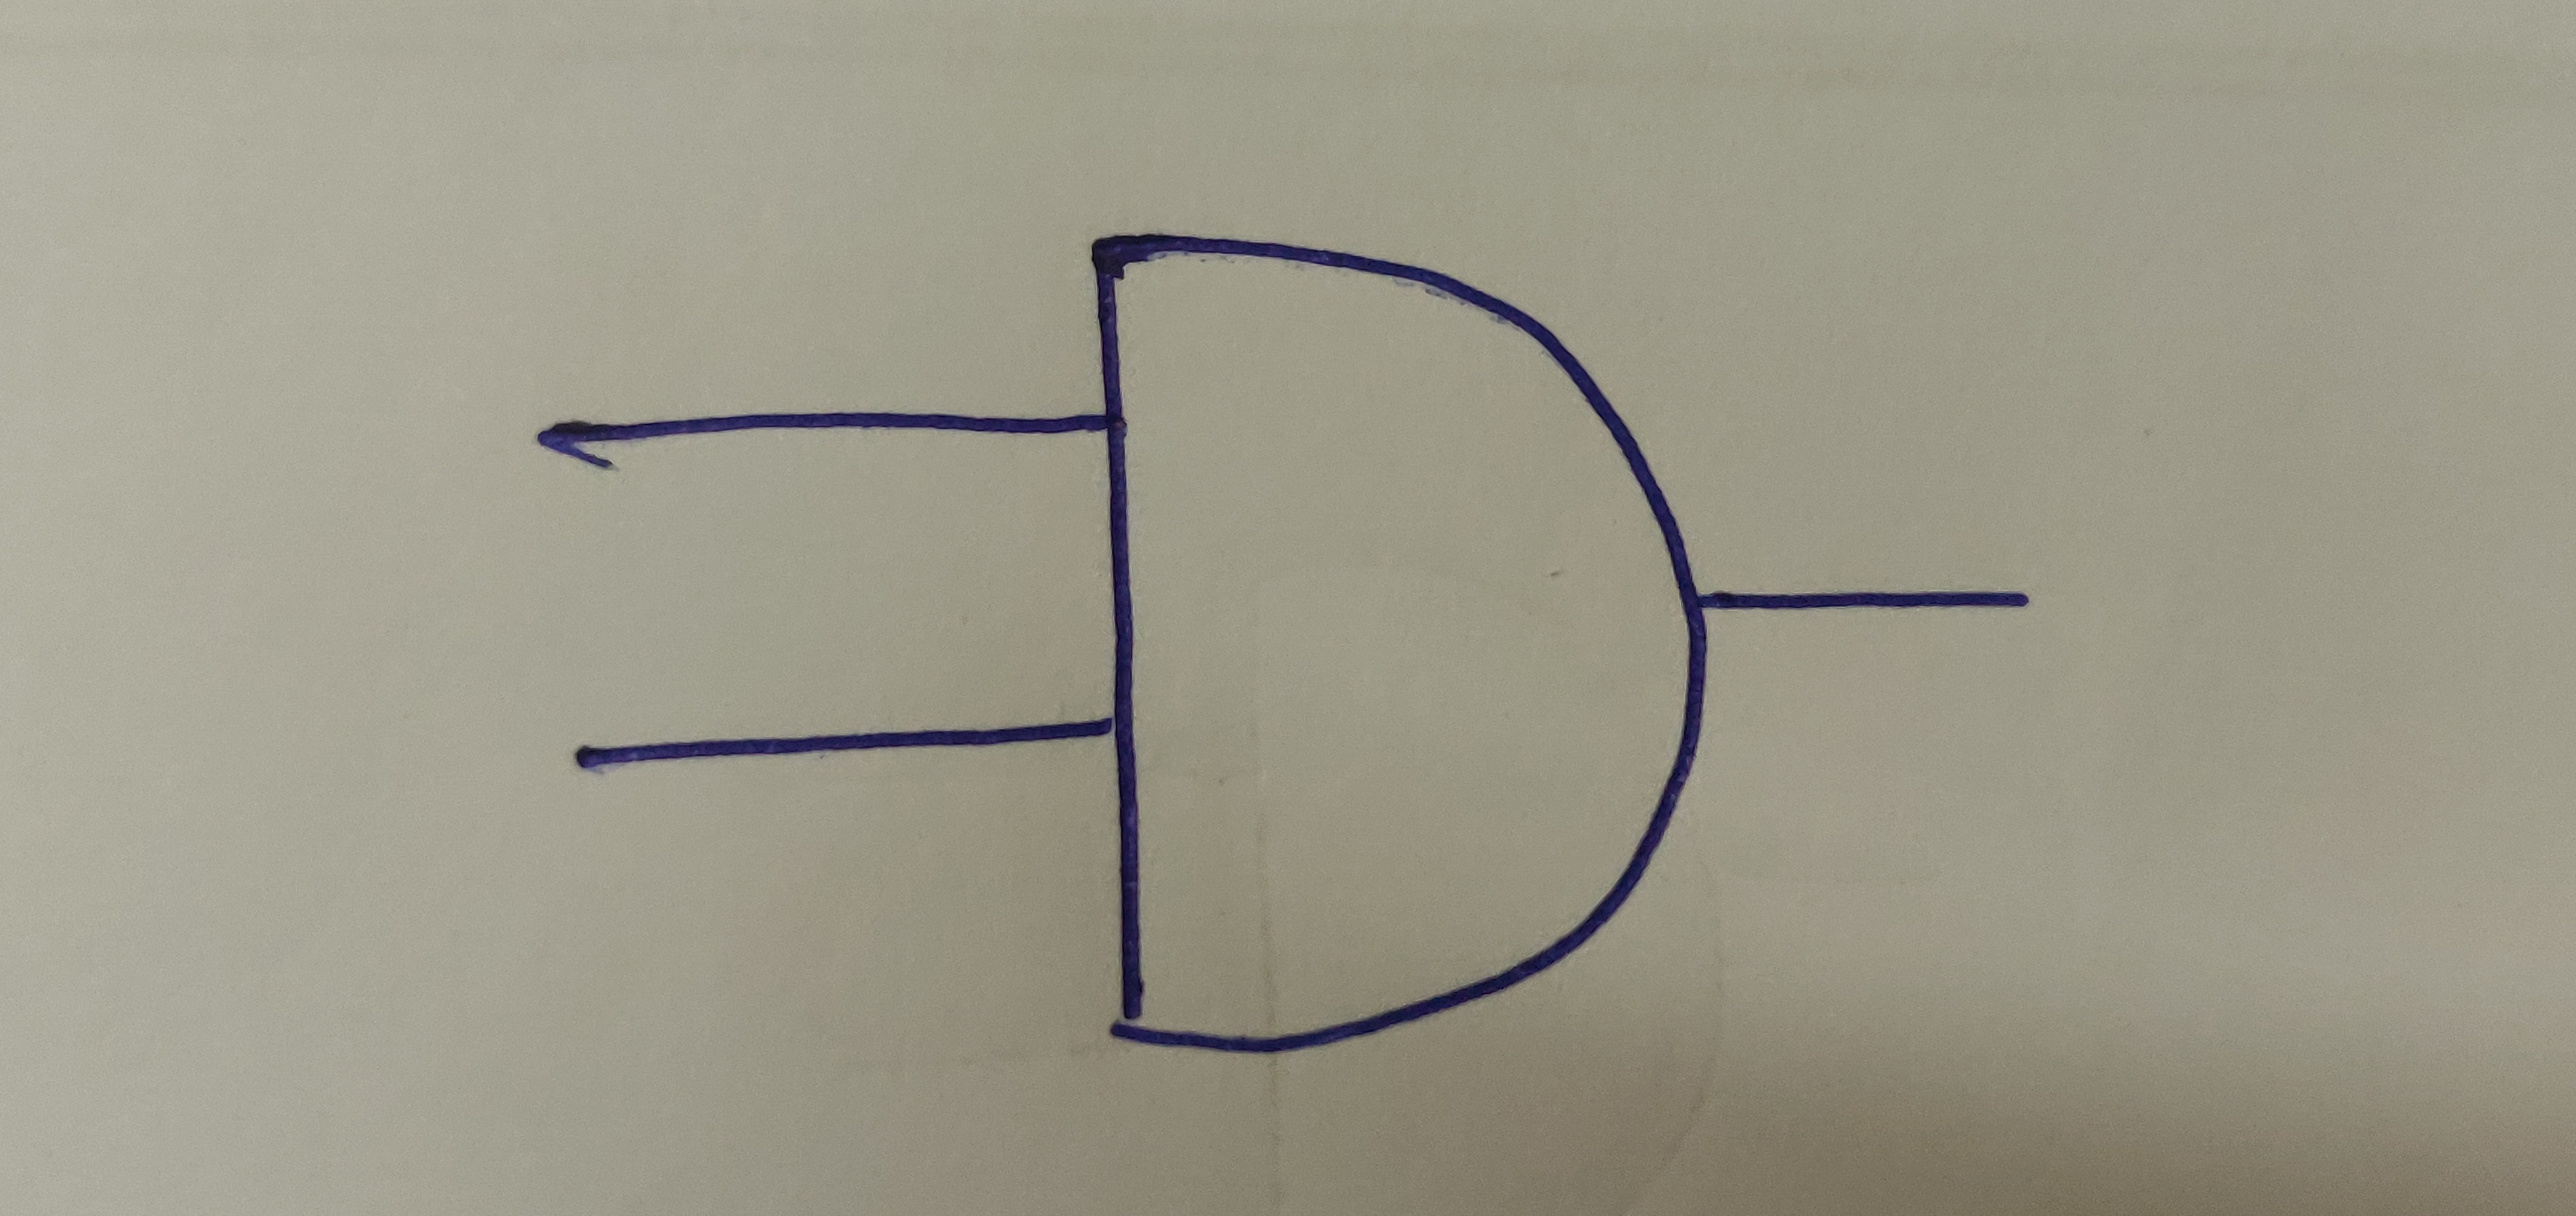and: (1084, 222, 1712, 1057)
